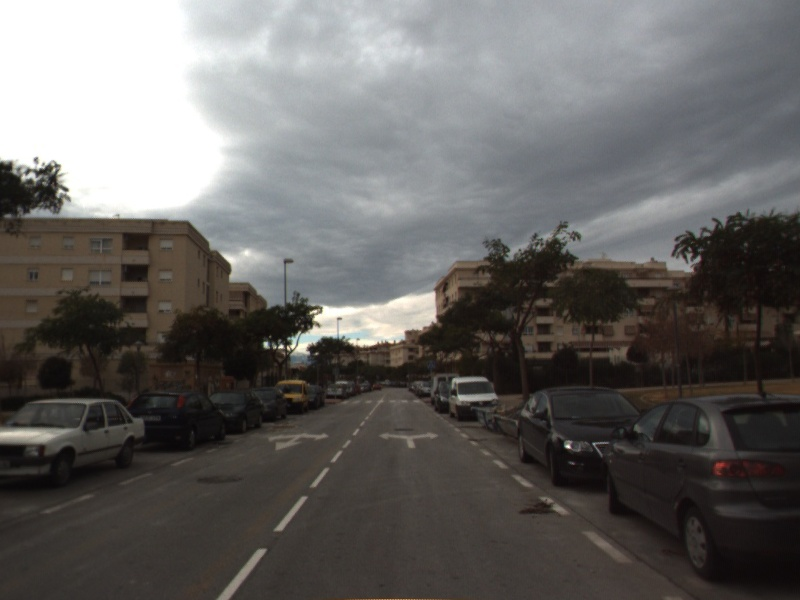LEFT_RIGHT: (376, 429, 441, 450)
